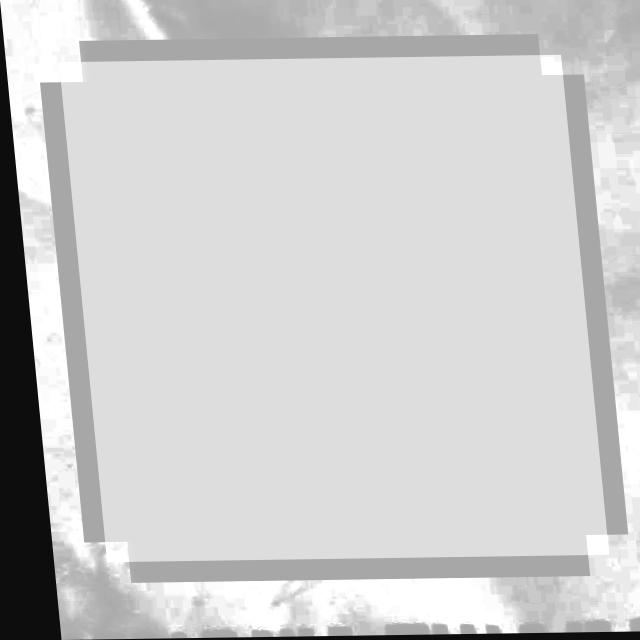qr_code: (58, 57, 598, 562)
